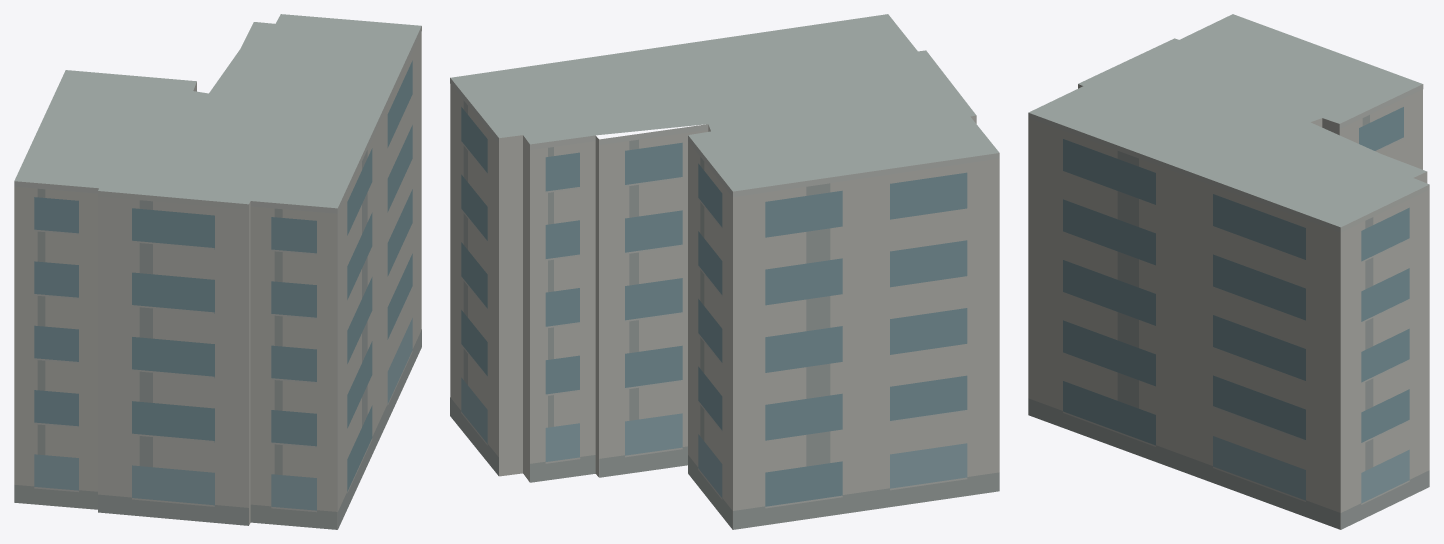
The model's file is survey-upis-32846785.glb.
3 renders of one model, left to right at view 1: azimuth 30°, elevation 25°; view 2: azimuth 150°, elevation 25°; view 3: azimuth 270°, elevation 25°, orthographic. The views are drawn at different scales.
Visible parts, largest first — view 1: survey-upis-32846785.tmp; view 2: survey-upis-32846785.tmp; view 3: survey-upis-32846785.tmp.
Part boxes in pixels (x1,y1,x2,y2): survey-upis-32846785.tmp: (14,14,421,529); survey-upis-32846785.tmp: (450,14,999,529); survey-upis-32846785.tmp: (1028,14,1429,529).
Bounding box in the file's own units: 21.34 × 14.1 × 16.96.
